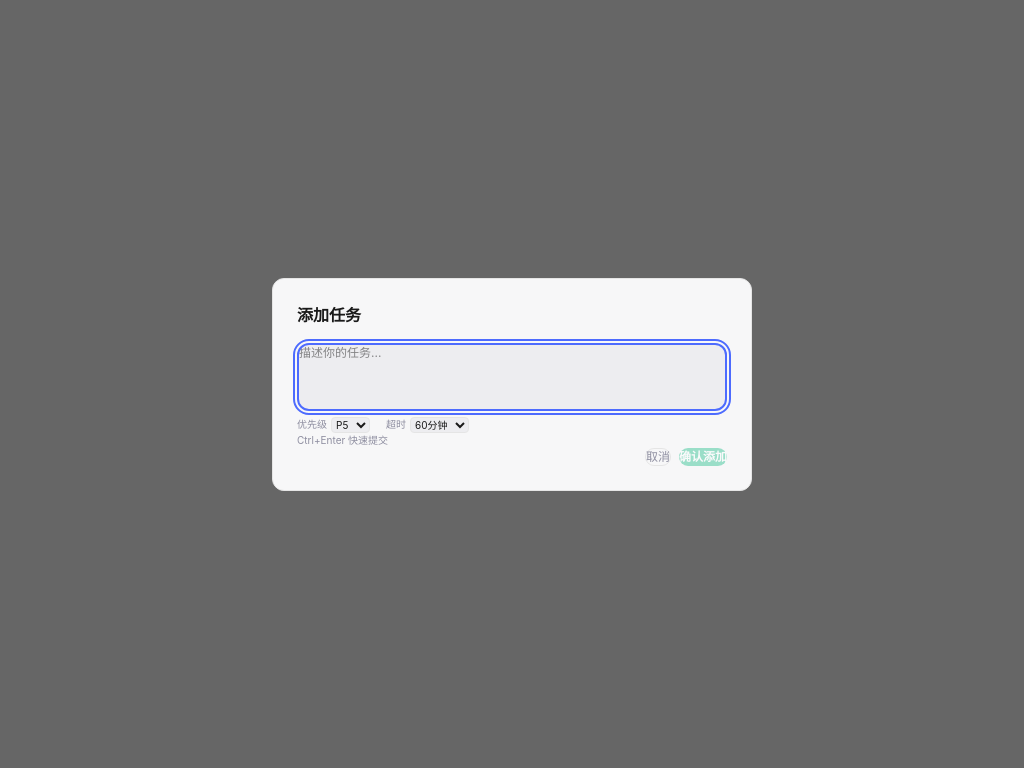
AddTaskModal › should enable submit button when text is entered
This screenshot has width=1024, height=768.
Type "New task" into the text box with placeholder "描述你的任务..." at (512, 376), box [297, 342, 727, 410]
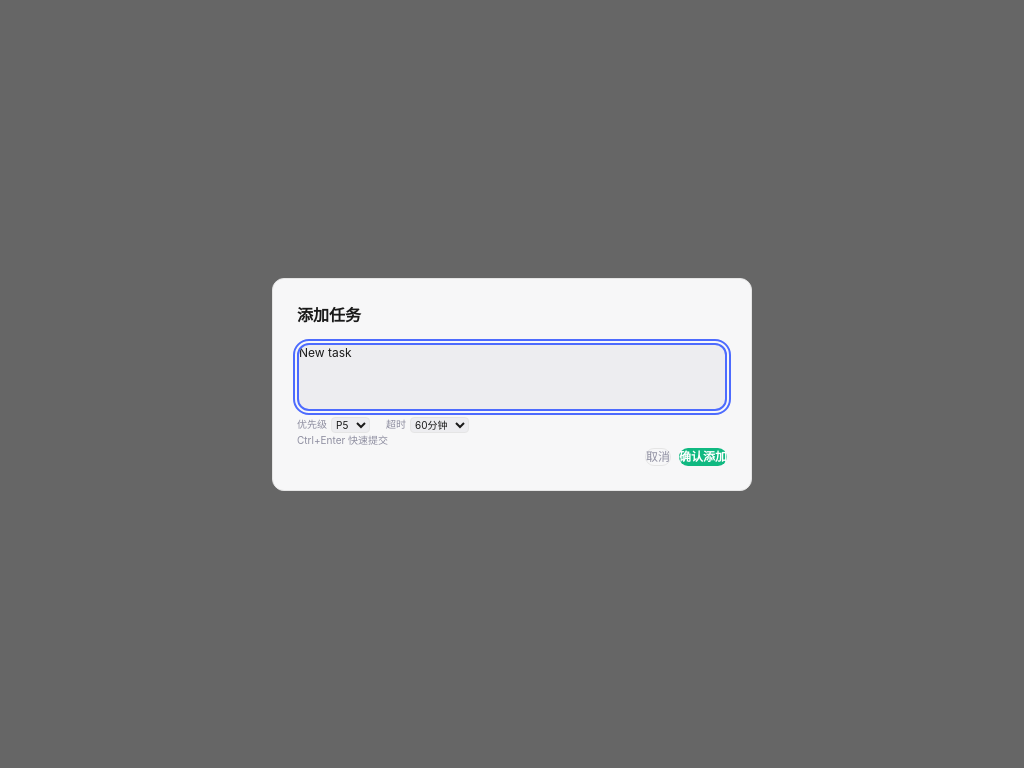
Now the button "确认添加" is enabled, box [679, 448, 727, 466]
